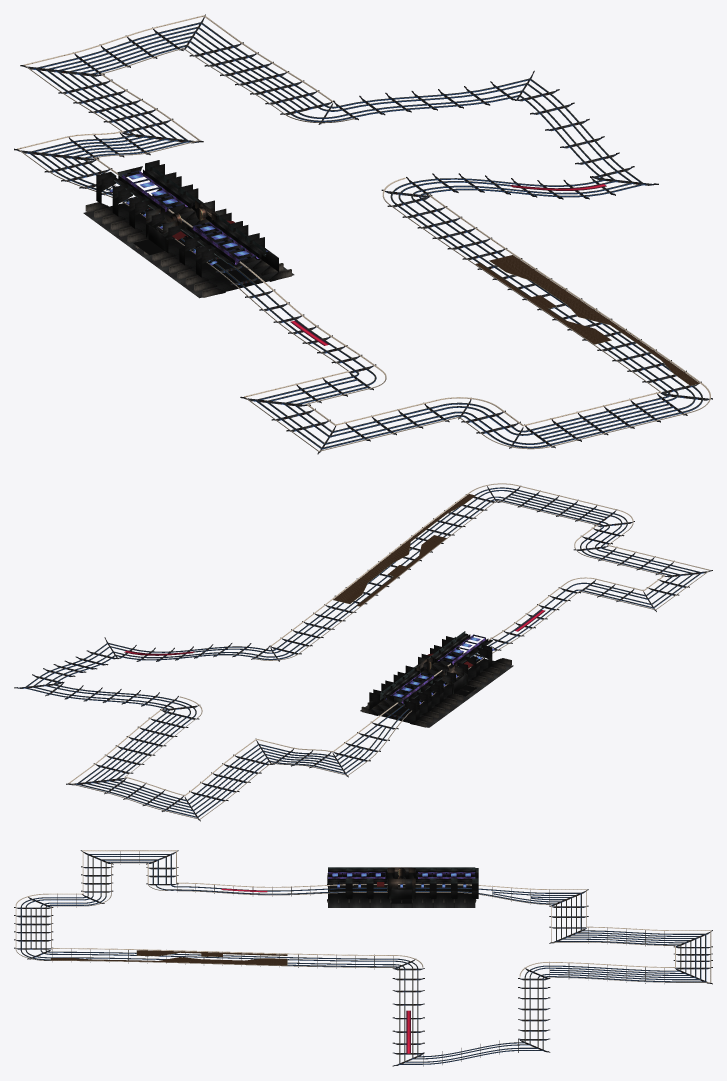
The model's file is Single.obj.
3 views of the same model, one above another, from view 1: azimuth 30°, elevation 25°; view 2: azimuth 150°, elevation 25°; view 3: azimuth 270°, elevation 25° (orthographic). The views are drawn at different scales.
Bounding box in the file's own units: 2244 × 307 × 3656.
Materials: 20 (20 with a texture image).
